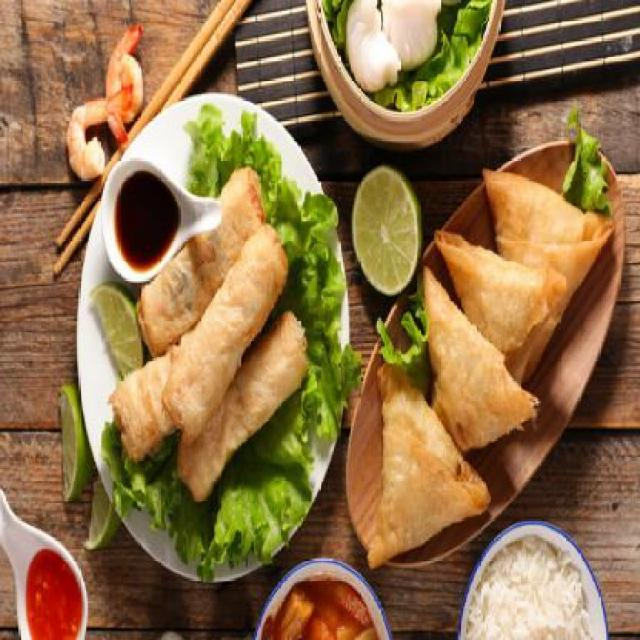fried rice: (463, 531, 597, 638)
samosa: (347, 152, 616, 566)
spring rolls: (107, 172, 304, 496)
